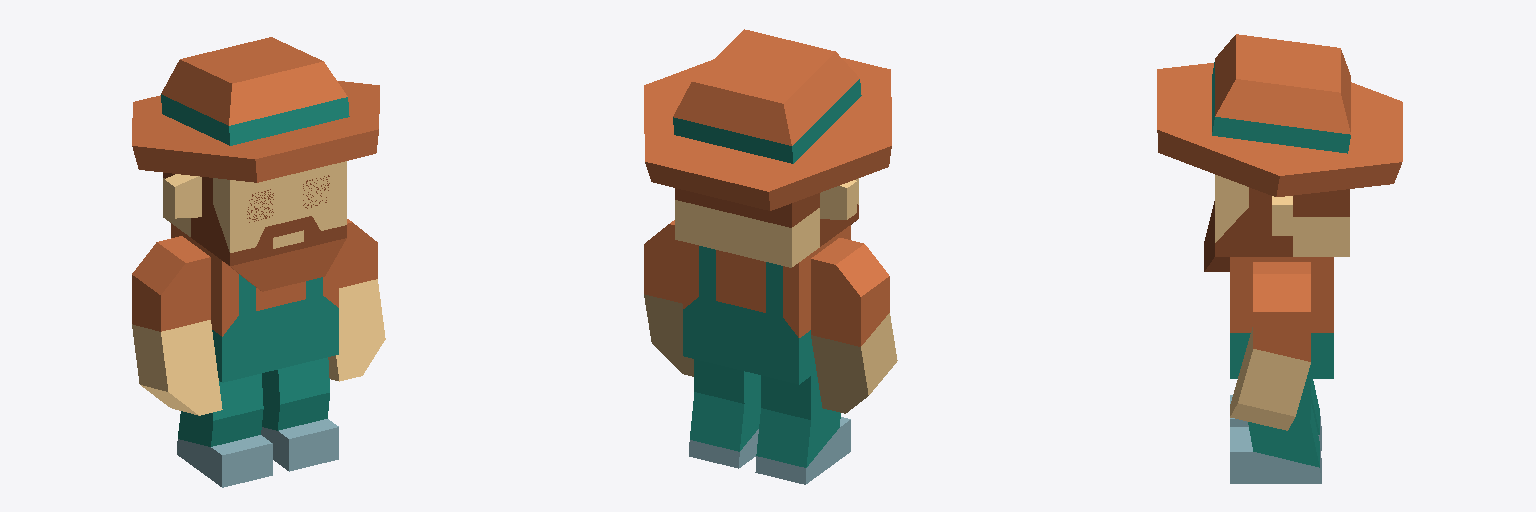
File: characterDigger.obj
3 views of the same model, side by side, from view 1: azimuth 30°, elevation 25°; view 2: azimuth 150°, elevation 25°; view 3: azimuth 270°, elevation 25° (orthographic).
Visible parts, largest first — view 1: head, armRight, body, legRight, legLeft, armLeft; view 2: head, body, armRight, legRight, legLeft, armLeft; view 3: head, armLeft, legLeft, body.
Boxes of the visible parts, box(x1,y1,x2,y2) form: head: box(132, 37, 379, 291); armRight: box(132, 236, 222, 415); body: box(171, 223, 338, 382); legRight: box(177, 373, 272, 487); legLeft: box(261, 357, 338, 471); armLeft: box(328, 219, 385, 381); head: box(644, 29, 891, 267); body: box(683, 225, 850, 384); armRight: box(811, 238, 897, 413); legRight: box(755, 372, 850, 484); legLeft: box(689, 359, 760, 468); armLeft: box(644, 220, 693, 376); head: box(1157, 34, 1402, 271); armLeft: box(1230, 262, 1310, 430); legLeft: box(1230, 379, 1321, 483); body: box(1230, 257, 1333, 378).
Bounding box in the file's own units: 0.5516 × 0.8487 × 0.4727.